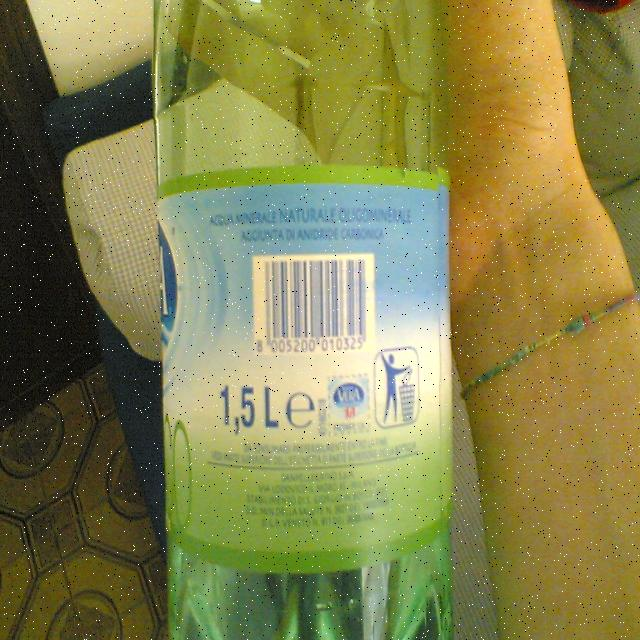barcode: (252, 253, 375, 353)
